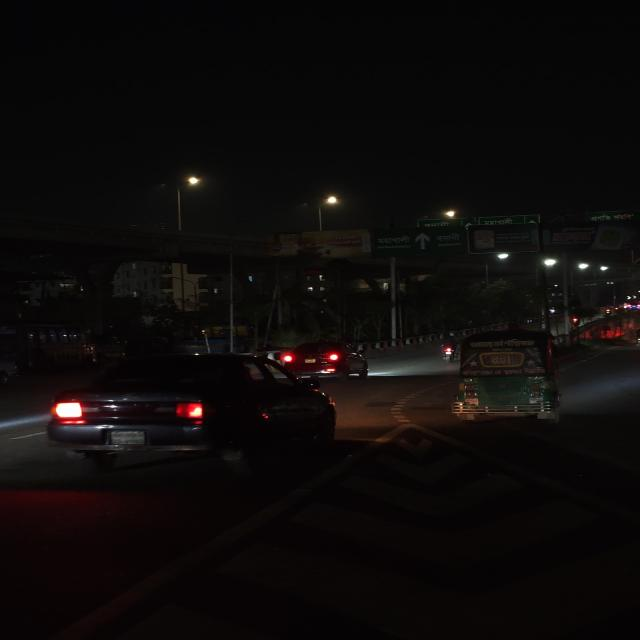car: (44, 352, 336, 481), (286, 340, 371, 378)
cng: (449, 331, 566, 425)
motorcycle: (438, 332, 458, 362)
rickshaw: (450, 330, 565, 426)
